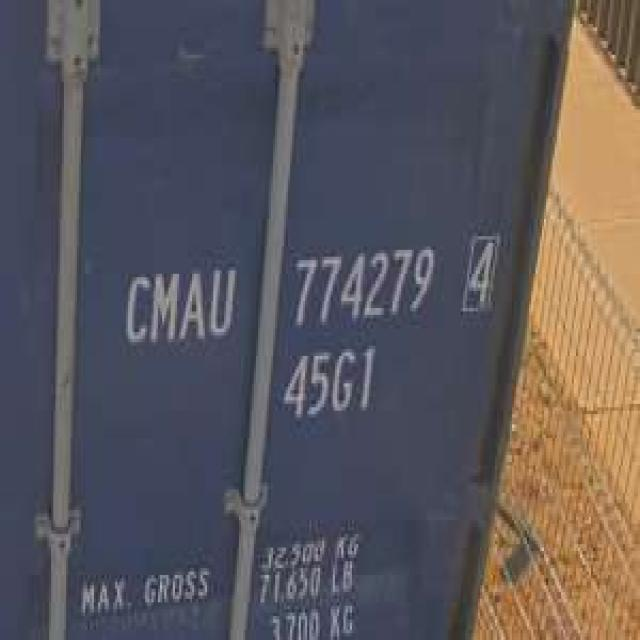dv: (459, 222, 501, 318)
owner: (117, 253, 239, 353)
serial: (286, 236, 437, 329)
size: (277, 339, 378, 428)
